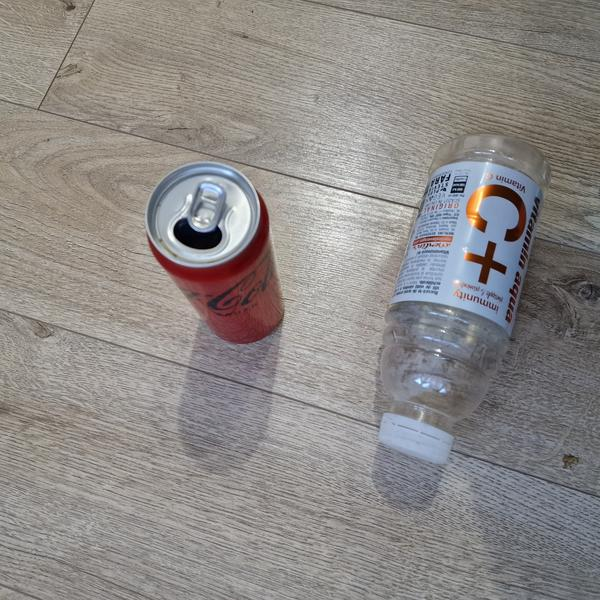can: (126, 142, 311, 367)
plastic_bottle: (353, 119, 555, 475)
